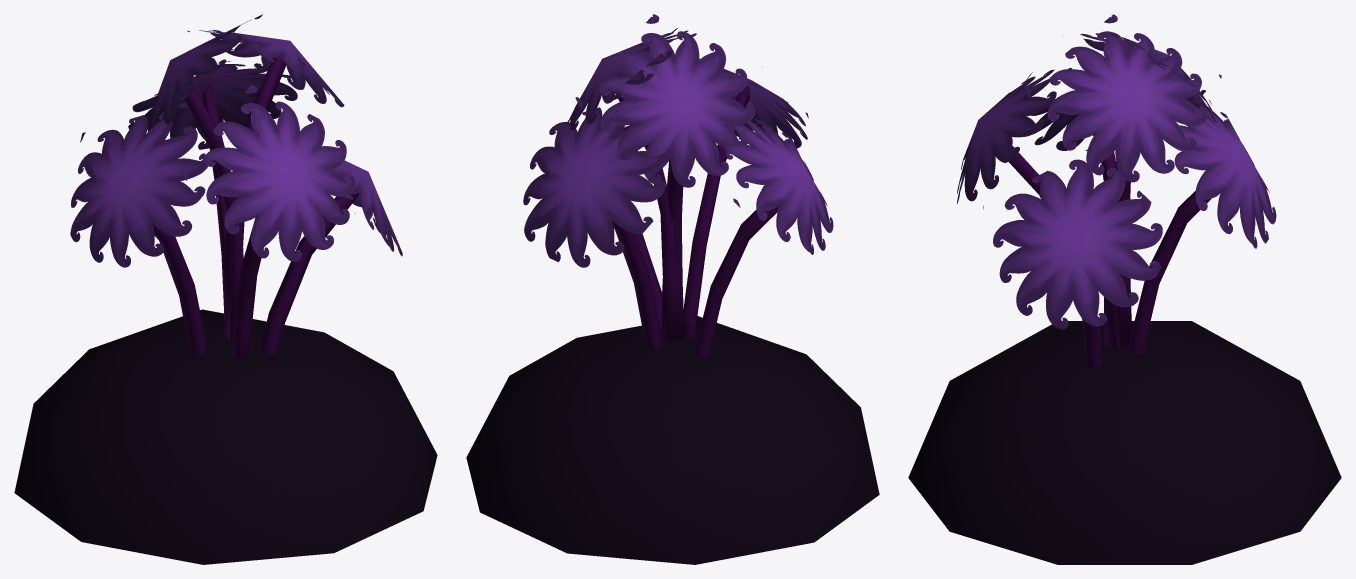
Rendered from Bush9.fbx.
3 views of the same model, side by side, from view 1: azimuth 30°, elevation 25°; view 2: azimuth 150°, elevation 25°; view 3: azimuth 270°, elevation 25° (orthographic). The views are drawn at different scales.
Visible parts, largest first — view 1: Icosphere.006, Cube.004; view 2: Icosphere.006, Cube.004; view 3: Icosphere.006, Cube.004.
Boxes of the visible parts, x1,y1,x2,y2 form: Icosphere.006: (14, 309, 437, 564); Cube.004: (70, 14, 402, 359); Icosphere.006: (466, 316, 879, 564); Cube.004: (523, 14, 833, 358); Icosphere.006: (908, 321, 1341, 564); Cube.004: (957, 14, 1276, 367).
Bounding box in the file's own units: 1.9 × 2.34 × 2.
Materials: 3 (1 with a texture image).
